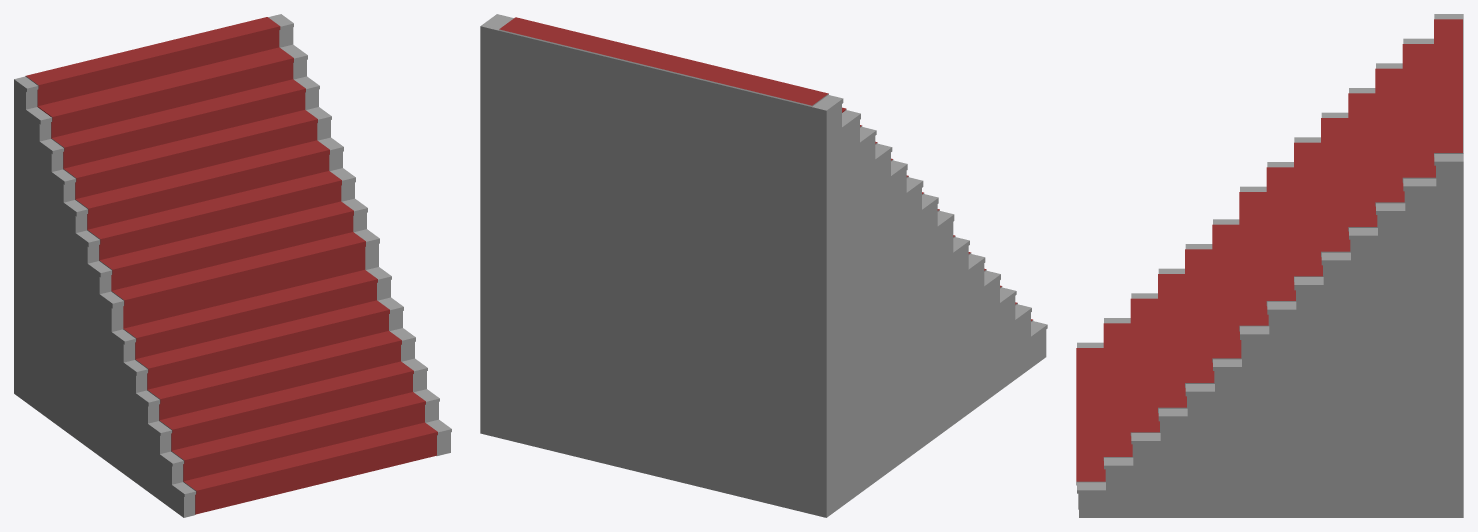
File: Stair3.fbx
The picture shows the model from 3 angles, left to right: view 1: azimuth 30°, elevation 25°; view 2: azimuth 150°, elevation 25°; view 3: azimuth 270°, elevation 25°; orthographic projection. The views are drawn at different scales.
Visible parts, largest first — view 1: Stair3; view 2: Stair3; view 3: Stair3.
Part boxes in pixels (bbox=[...]): Stair3: bbox=[14, 14, 451, 517]; Stair3: bbox=[480, 14, 1047, 517]; Stair3: bbox=[1076, 14, 1463, 517].
Size of the model in its own units: 964 by 1087 by 1068.
